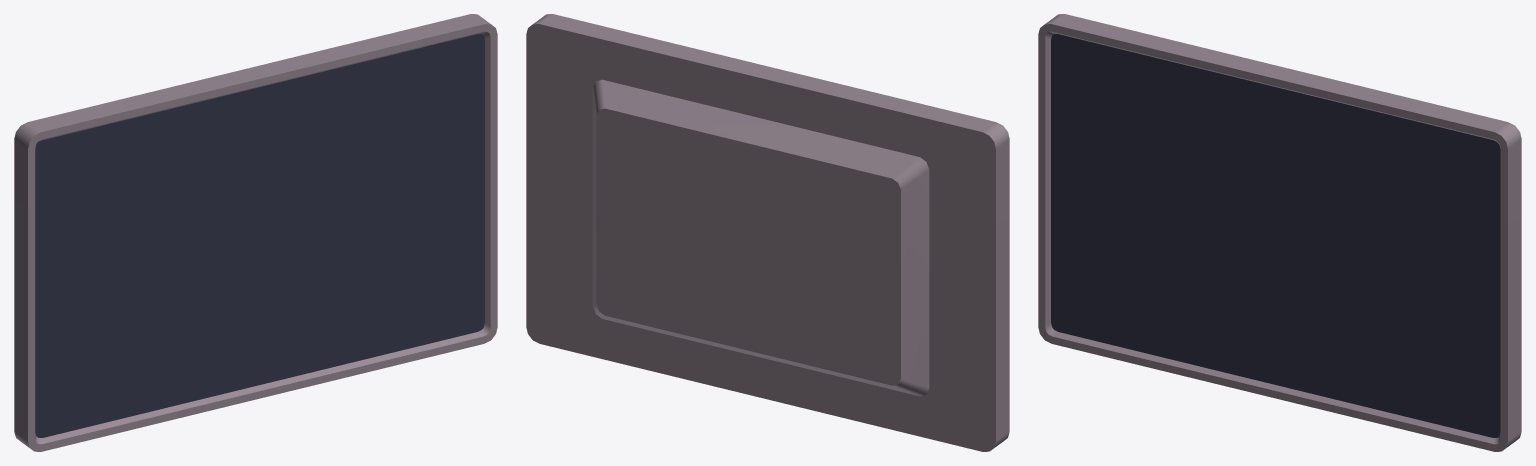
3 renders of one model, left to right at view 1: azimuth 30°, elevation 25°; view 2: azimuth 150°, elevation 25°; view 3: azimuth 330°, elevation 25°, orthographic.
Visible parts, largest first — view 1: tv; view 2: tv; view 3: tv.
Boxes of the visible parts, <box> form: tv: <box>14,14,497,451</box>; tv: <box>526,14,1009,451</box>; tv: <box>1038,14,1521,451</box>.
Size of the model in its own units: 178 by 115 by 17.15.
Materials: 1 (1 with a texture image).
